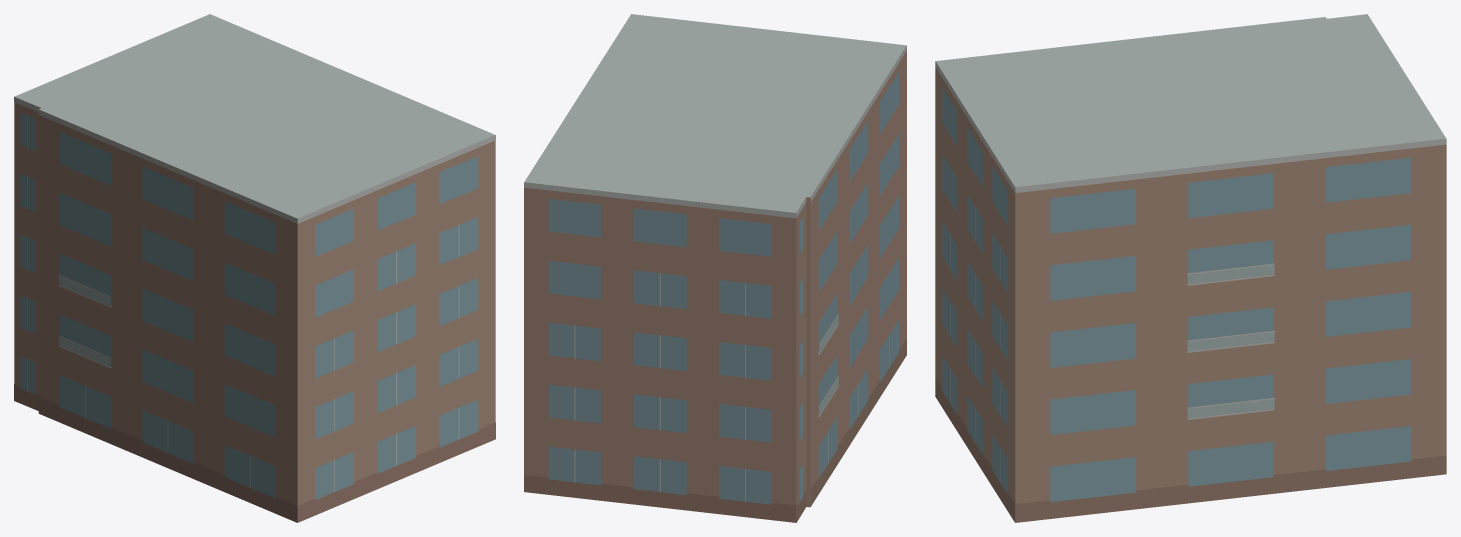
The model's file is survey-upis-33043029.glb.
3 renders of one model, left to right at view 1: azimuth 30°, elevation 25°; view 2: azimuth 150°, elevation 25°; view 3: azimuth 270°, elevation 25°, orthographic. The views are drawn at different scales.
Parts seen in each view (by area): view 1: survey-upis-33043029.tmp; view 2: survey-upis-33043029.tmp; view 3: survey-upis-33043029.tmp.
Boxes of the visible parts, x1,y1,x2,y2 form: survey-upis-33043029.tmp: (14, 14, 495, 522); survey-upis-33043029.tmp: (524, 14, 906, 522); survey-upis-33043029.tmp: (935, 14, 1446, 522).
Bounding box in the file's own units: 15.63 × 14.1 × 19.47.
